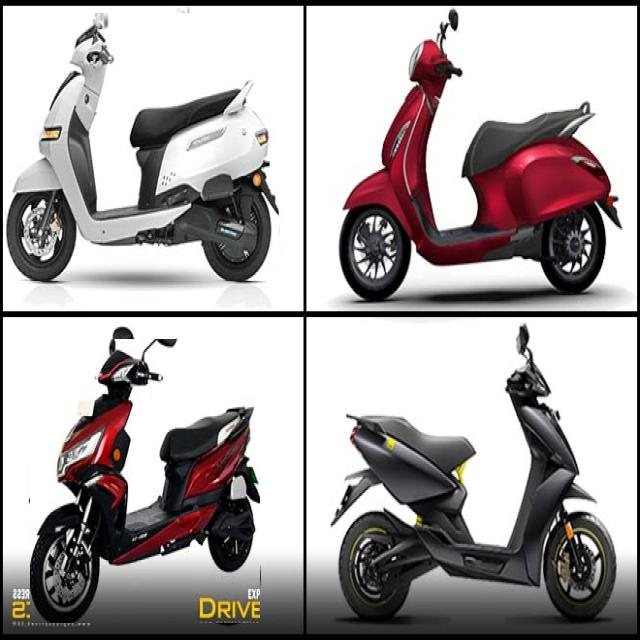motorcycle: (333, 326, 616, 621), (340, 11, 620, 299), (6, 13, 279, 281), (30, 340, 260, 623)
